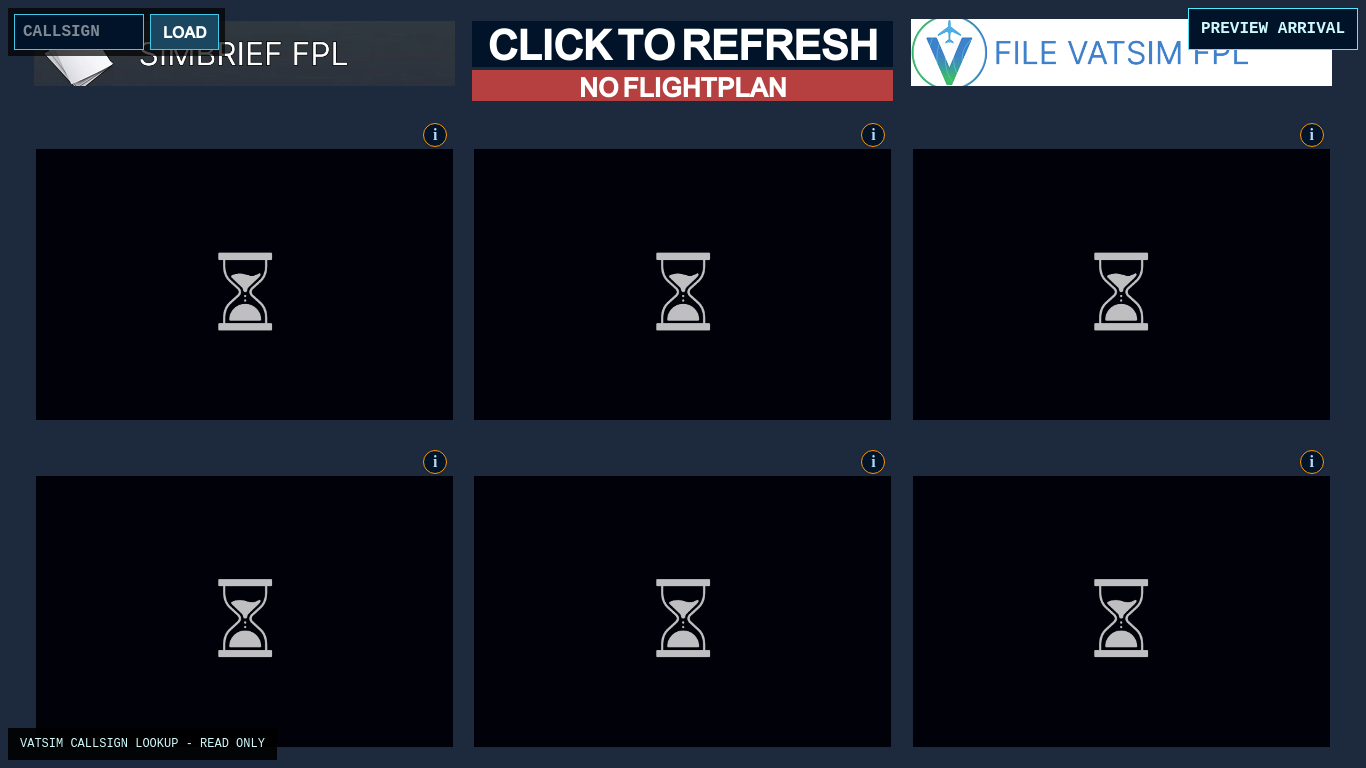
Test: EFB page interactions › loads a manually selected prefile as a read-only VATSIM flight
Type "sas99x" into the field named "VATSIM callsign" at (79, 32), box x1=14 y1=14 x2=144 y2=50
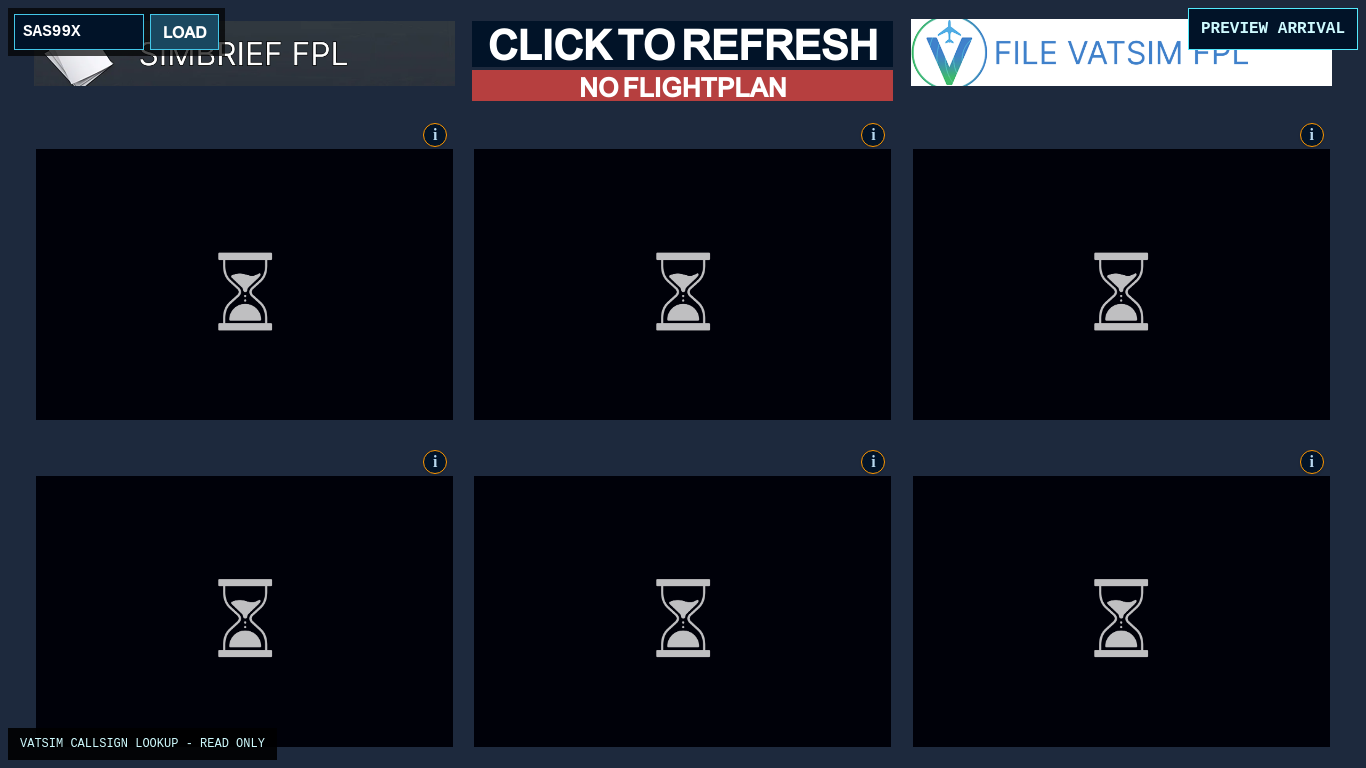
Click the button "LOAD" at (185, 32), box x1=150 y1=14 x2=220 y2=50
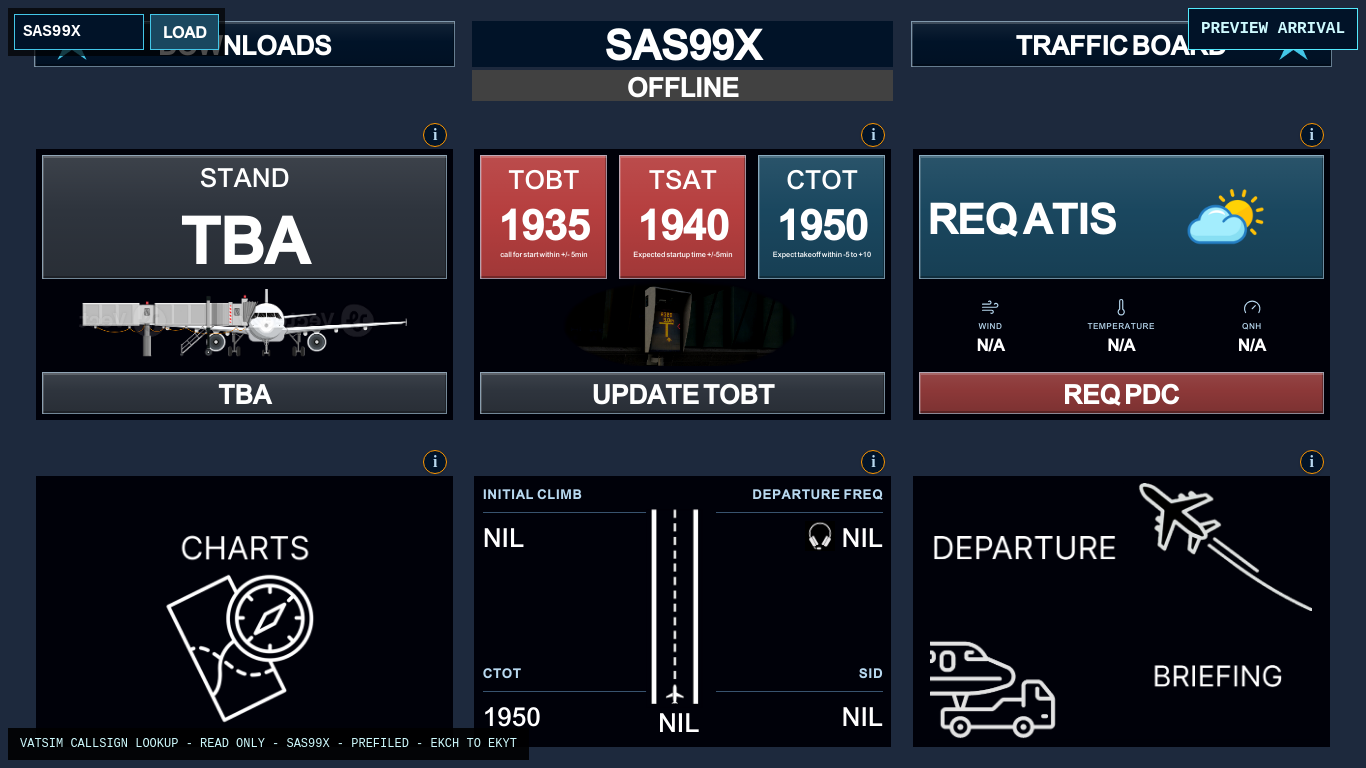
Now the button "SAS99X" is shown, box x1=472 y1=21 x2=894 y2=67
Now the message "VATSIM CALLSIGN LOOKUP" shows "SAS99X - PREFILED - EKCH TO EKYT", box x1=265 y1=737 x2=517 y2=751
Now the text "1935" is shown, box x1=498 y1=198 x2=589 y2=248
